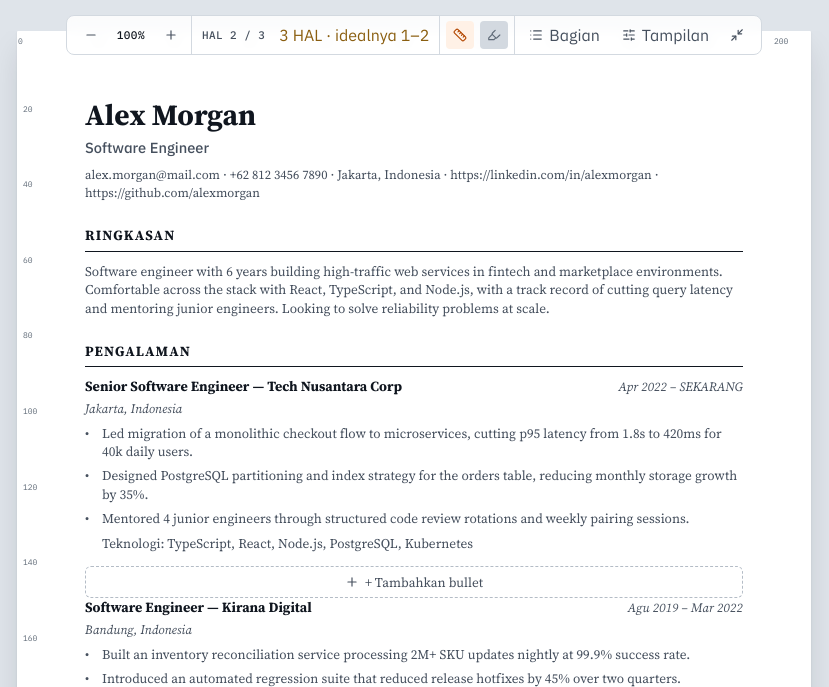
Test: editor in-place di atas kertas (C3.1) › commit tidak valid: editor tetap terbuka + pesan error + aria-invalid
Click the button "alex.morgan@mail.com".
click(152, 175)  # box [85,166,220,184]
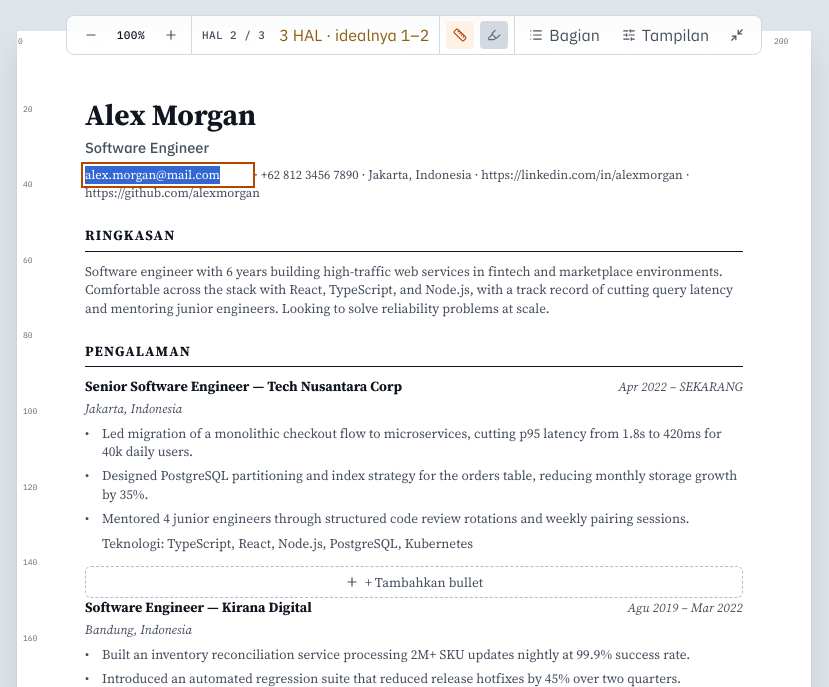
Replace the text in the field with class "canvas-editor" with "bukan-email" at {"x": 168, "y": 175}, box [85,166,251,184]
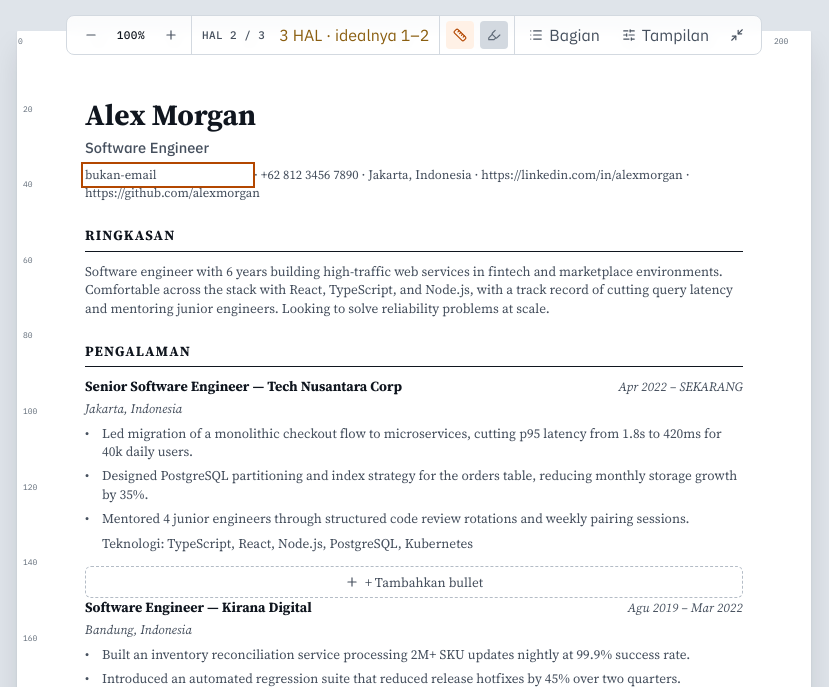
Press Enter
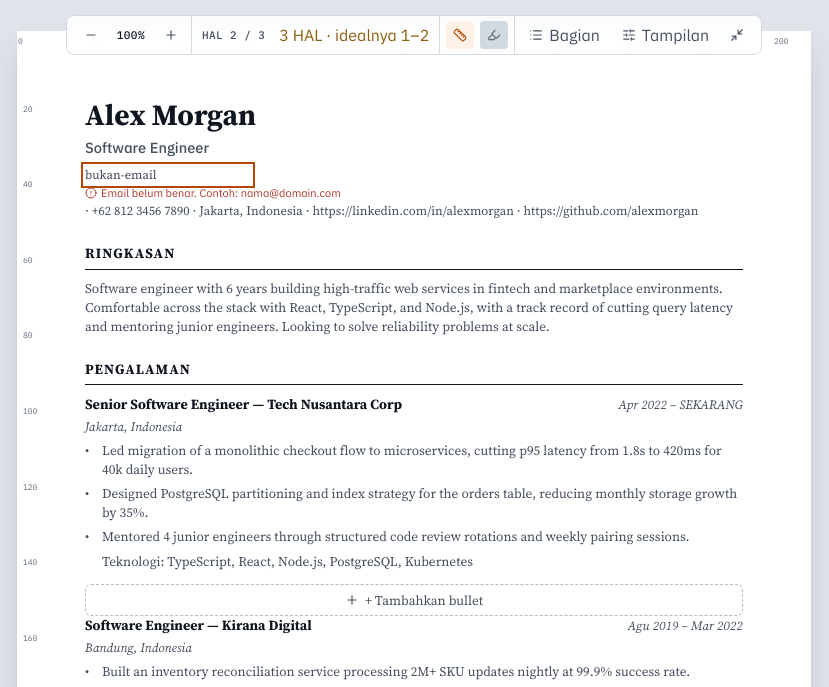
Result: the message "Email belum benar. Contoh: nama@domain.com" is shown at [85,186,341,200]
